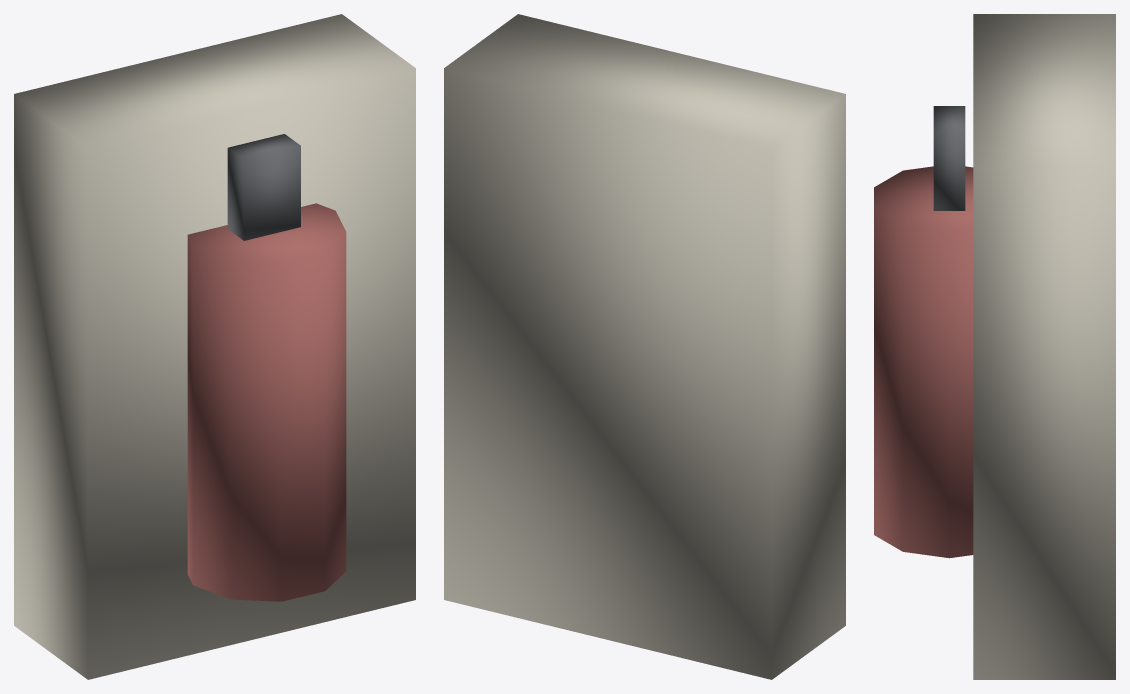
Rendered from extinguisher_cabinet__reinforced.glb.
3 renders of one model, left to right at view 1: azimuth 30°, elevation 25°; view 2: azimuth 150°, elevation 25°; view 3: azimuth 270°, elevation 25°, orthographic. The views are drawn at different scales.
Visible parts, largest first — view 1: world; view 2: world; view 3: world.
Part boxes in pixels (x1,y1,x2,y2): world: (14,14,415,679); world: (444,14,845,679); world: (874,14,1115,679).
Size of the model in its own units: 0.4738 by 0.7344 by 0.3143.
